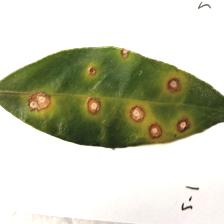canker: (20, 56, 200, 158)
